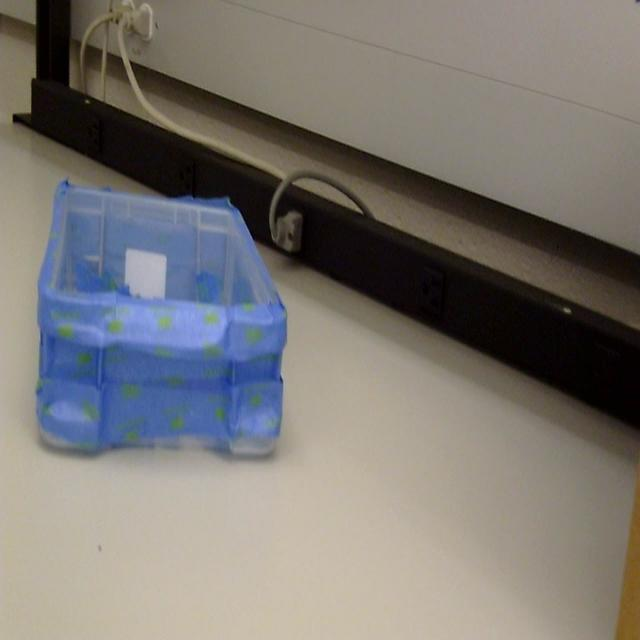bucket: (34, 181, 288, 462)
